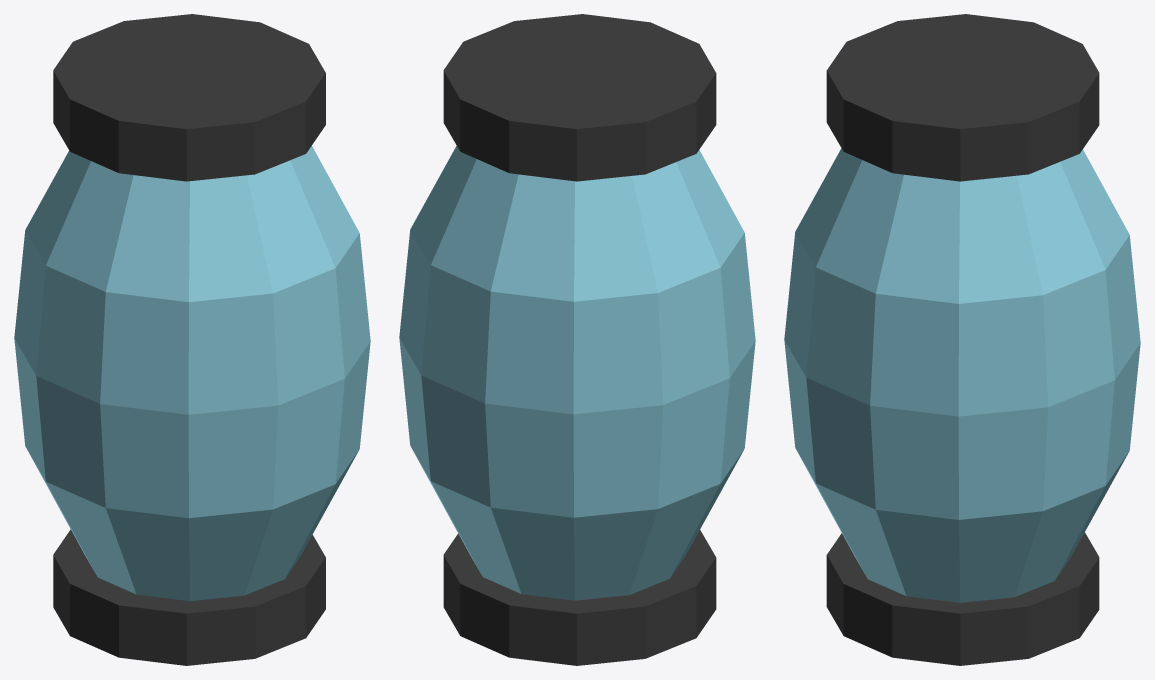
Rendered from GlassDecorationSmallSpecimenJar3.fbx.
3 views of the same model, side by side, from view 1: azimuth 30°, elevation 25°; view 2: azimuth 150°, elevation 25°; view 3: azimuth 270°, elevation 25° (orthographic).
Parts seen in each view (by area): view 1: GlassDecorationSmallSpecimenJar3; view 2: GlassDecorationSmallSpecimenJar3; view 3: GlassDecorationSmallSpecimenJar3.
Part boxes in pixels (box(x1,y1,x2,y2)): GlassDecorationSmallSpecimenJar3: box(14, 14, 370, 665); GlassDecorationSmallSpecimenJar3: box(399, 14, 755, 665); GlassDecorationSmallSpecimenJar3: box(784, 14, 1140, 665).
Bounding box in the file's own units: 50.22 × 83.46 × 50.22.
5 materials, 5 textured.
